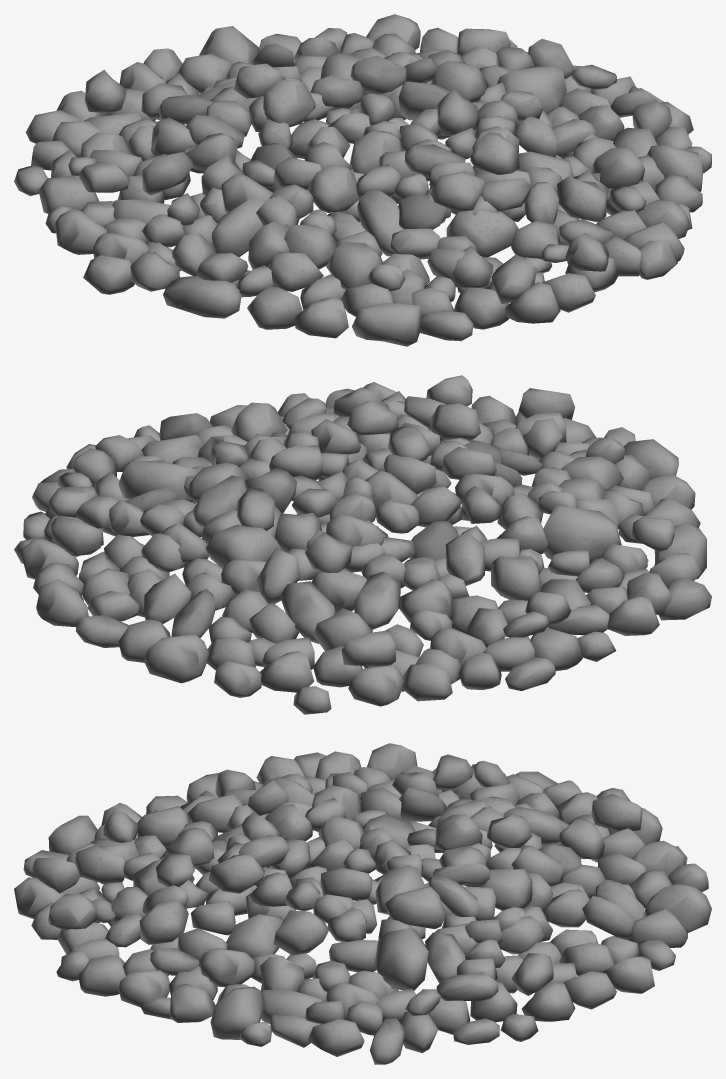
File: PebNest04.fbx
The picture shows the model from 3 angles, top to bottom: view 1: azimuth 30°, elevation 25°; view 2: azimuth 150°, elevation 25°; view 3: azimuth 270°, elevation 25°; orthographic projection. The views are drawn at different scales.
Visible parts, largest first — view 1: PebNest04; view 2: PebNest04; view 3: PebNest04.
Boxes of the visible parts, bbox=[...] form: PebNest04: bbox=[14, 14, 711, 346]; PebNest04: bbox=[14, 375, 711, 714]; PebNest04: bbox=[14, 743, 711, 1064].
Size of the model in its own units: 89.49 by 13.8 by 90.63.
